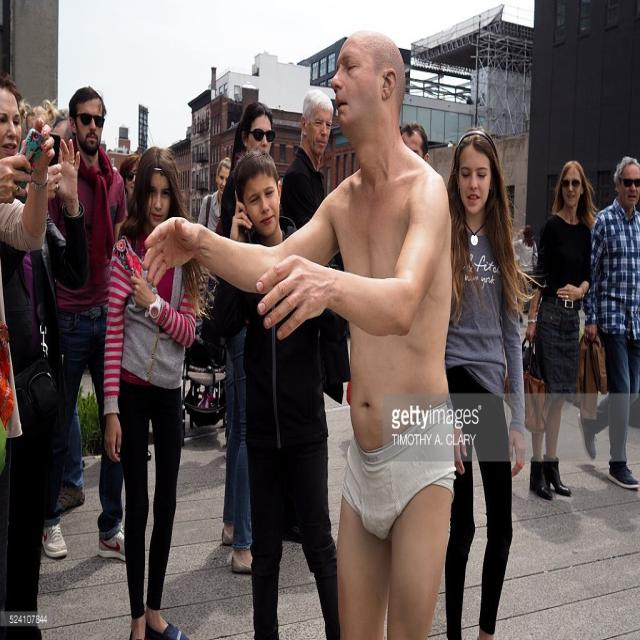body: (136, 23, 461, 639), (208, 149, 350, 639), (98, 140, 204, 639), (0, 70, 88, 640), (443, 124, 532, 640), (41, 83, 132, 565), (0, 97, 70, 639), (277, 87, 352, 545), (212, 102, 276, 575), (524, 160, 594, 503), (576, 154, 640, 490), (197, 156, 233, 234), (512, 224, 539, 315), (114, 138, 139, 212), (398, 114, 431, 162)
